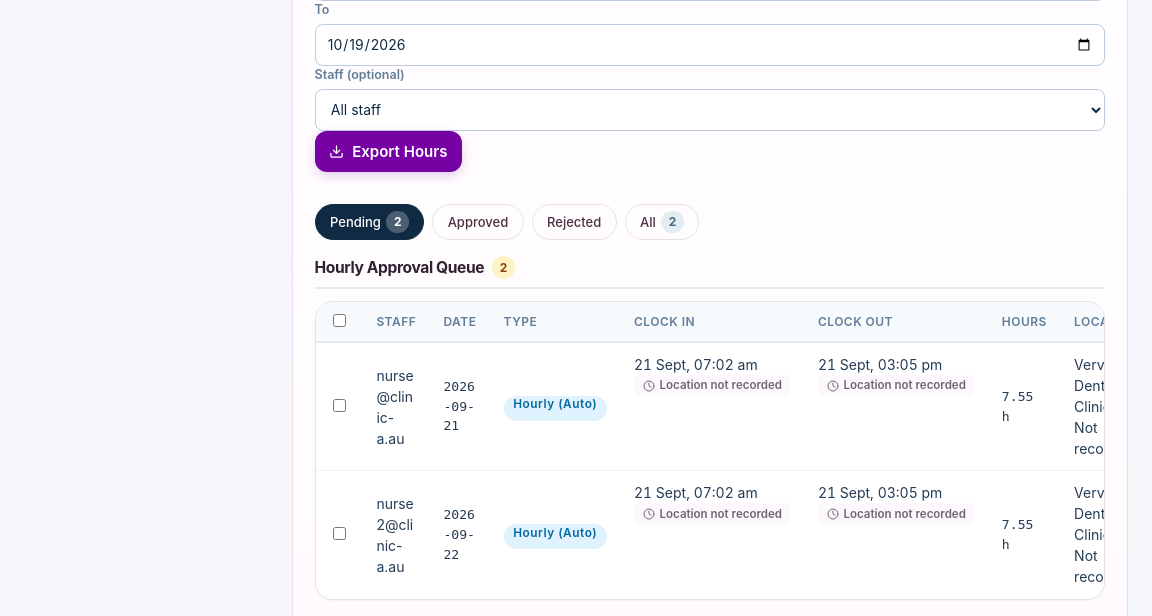
Scenario: ApprovalQueue — bulk selection checkboxes › Select All selects all visible pending rows
(page scrolled)
Expected: the cell "nurse@clinic-a.au" is shown, [363,342,430,471]
Click the checkbox named "select all timesheets" at [340, 321], box [333,314,346,327]
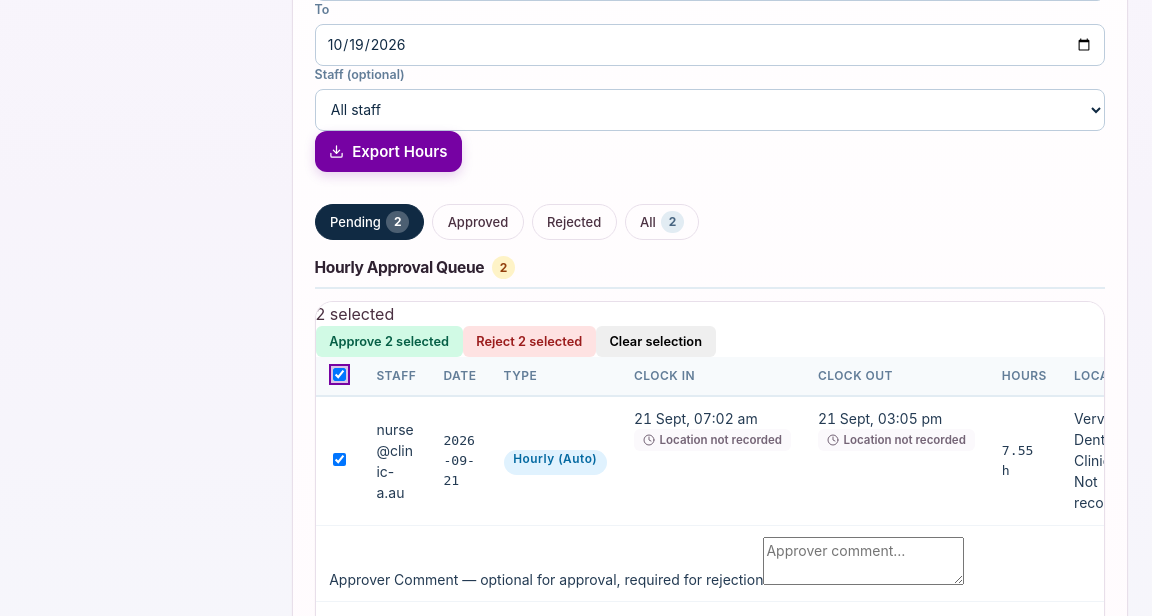
Expected: the checkbox named "select timesheet for" is checked, [333,454,346,466]
